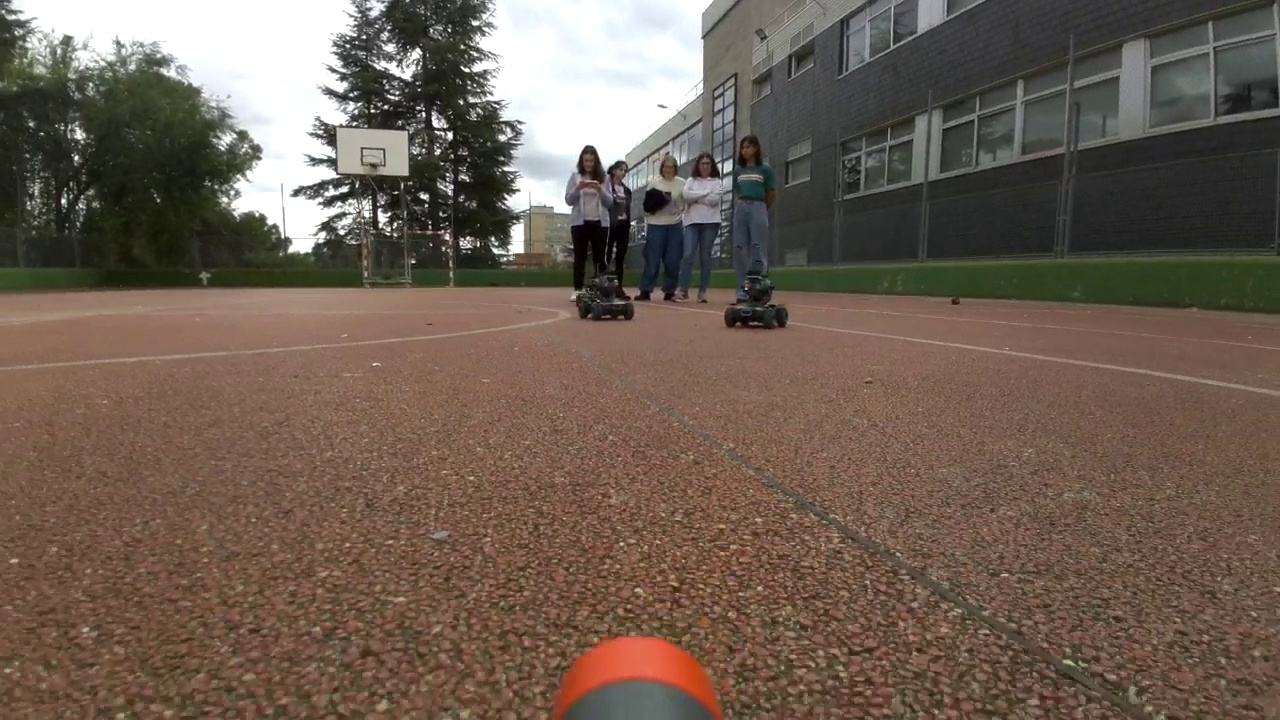robot: (725, 271, 788, 327), (577, 272, 633, 320)
